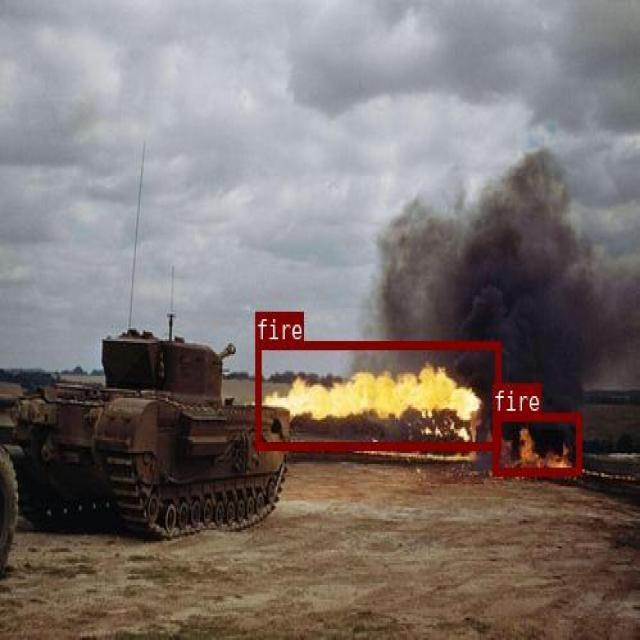fire: (255, 341, 500, 448), (492, 412, 581, 475)
